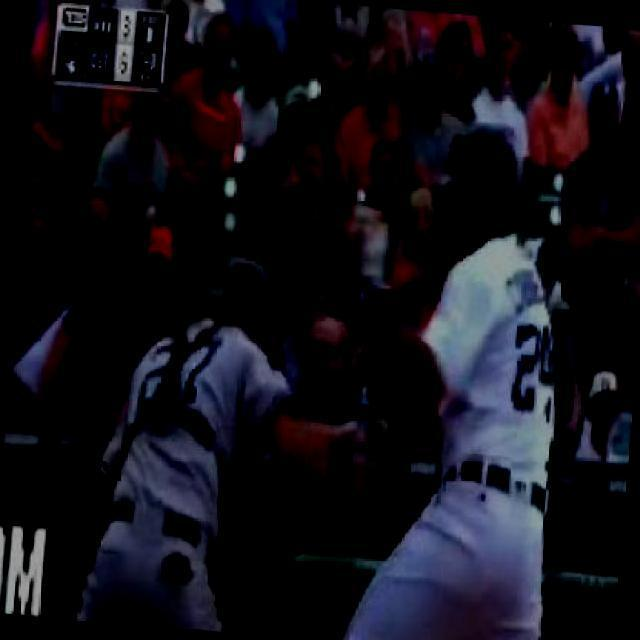fight: (79, 94, 578, 638)
